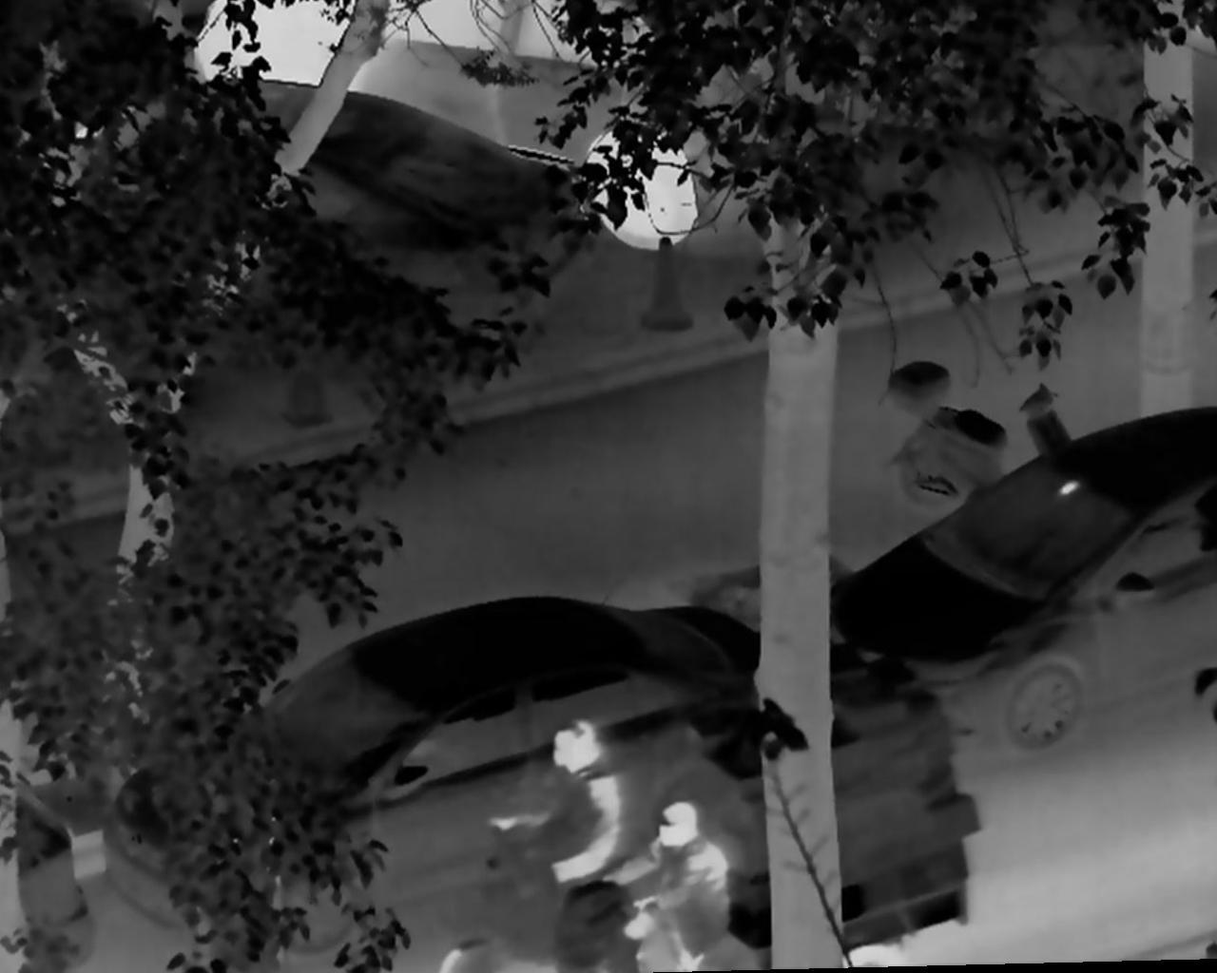person: (491, 709, 637, 903), (596, 801, 743, 973)
